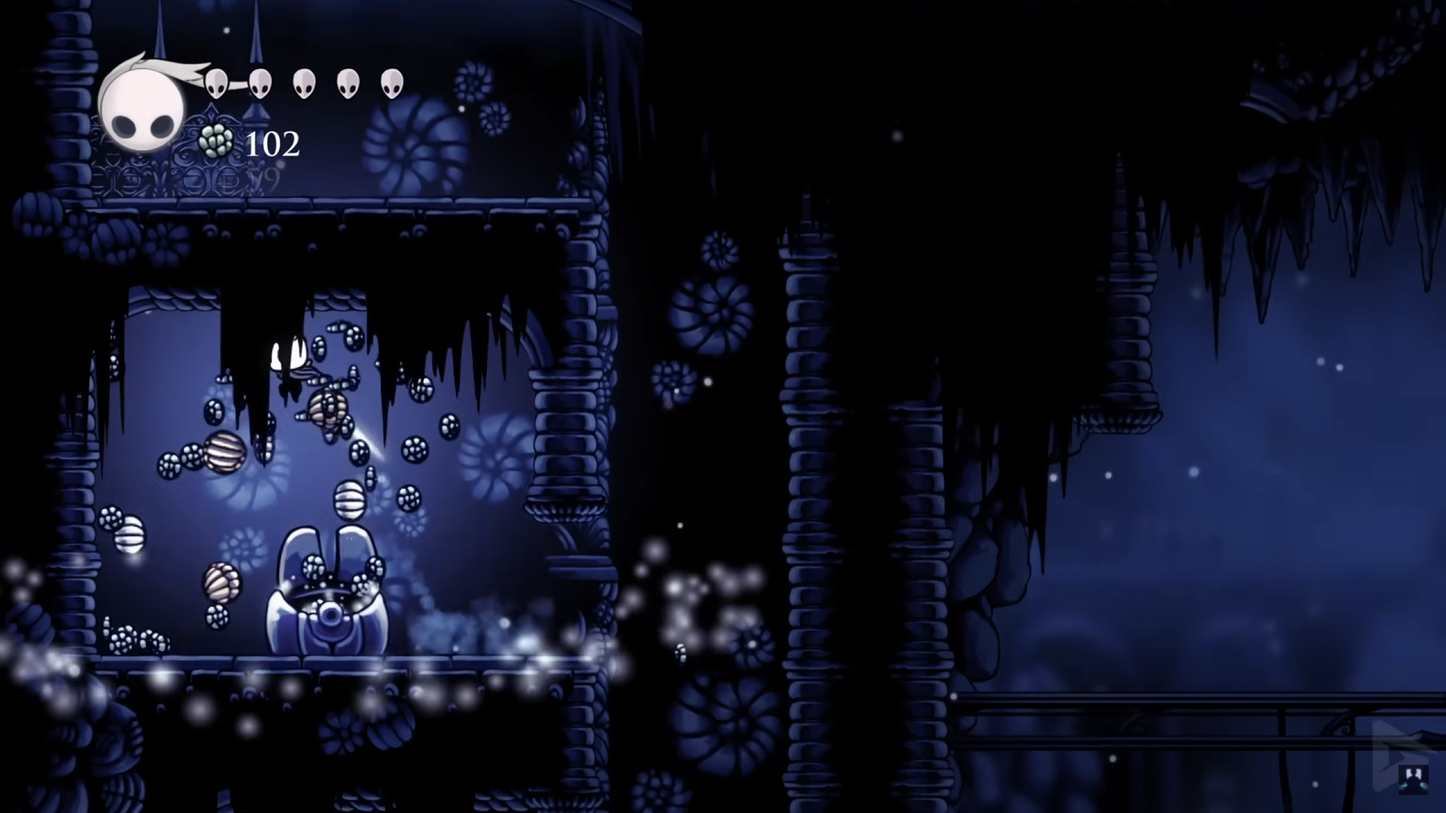HK: (262, 316, 318, 410)
